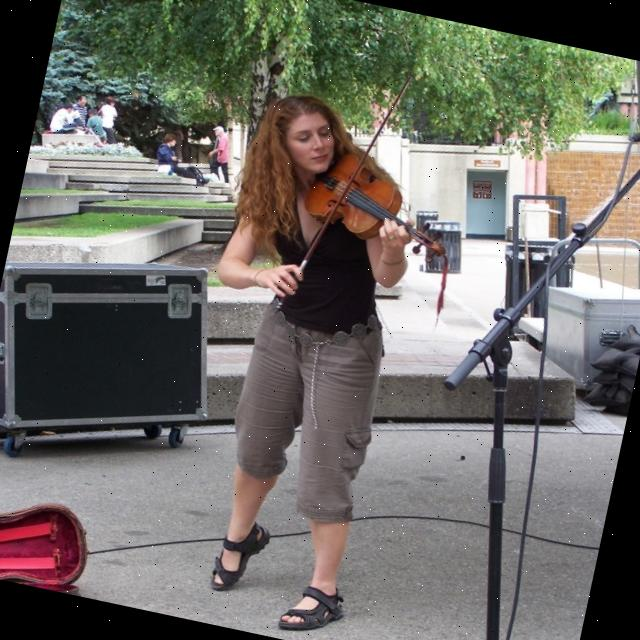violin: (292, 142, 465, 267)
